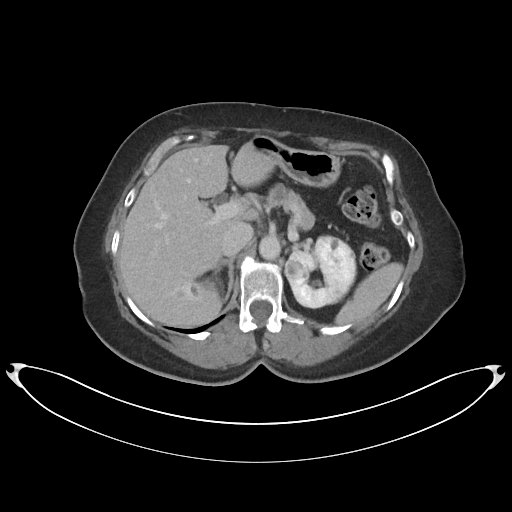Lesion: (283, 259, 305, 278)
